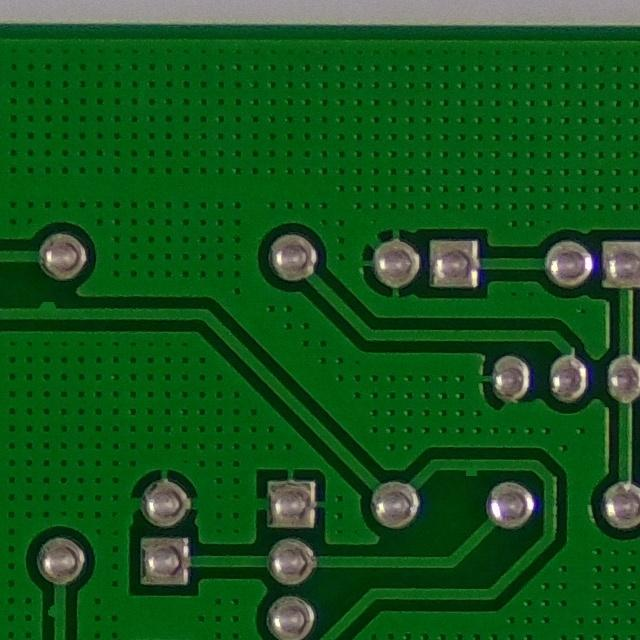spur: (21, 287, 70, 328), (40, 590, 78, 633), (453, 449, 491, 485)
